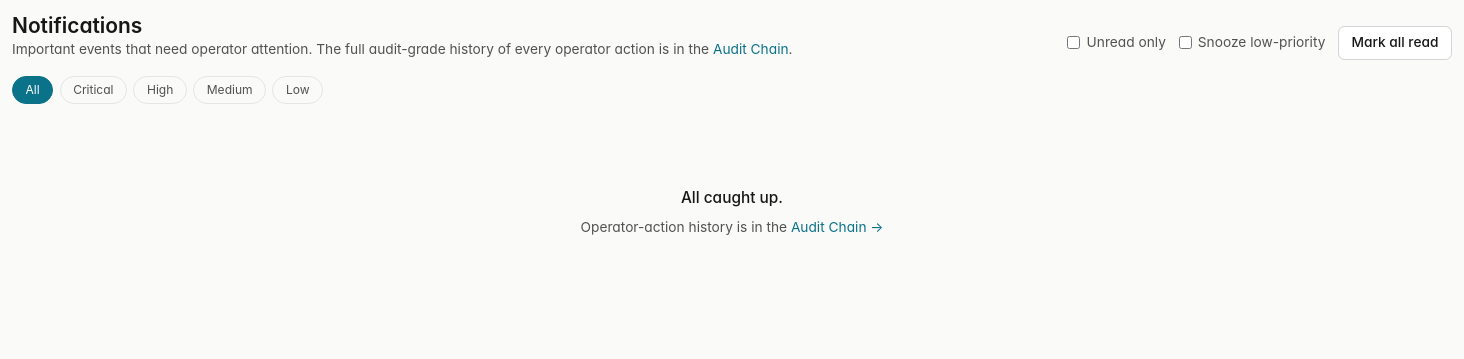
Test: <NotificationsPage> action-failure banner › falls back to a generic error code on a non-ApiError rejection
expect the heading "Notifications" is shown: met, box [12,13,142,38]
Step 1. Click the button "Mark all read" → [1395, 43], box [1338,26,1452,60]
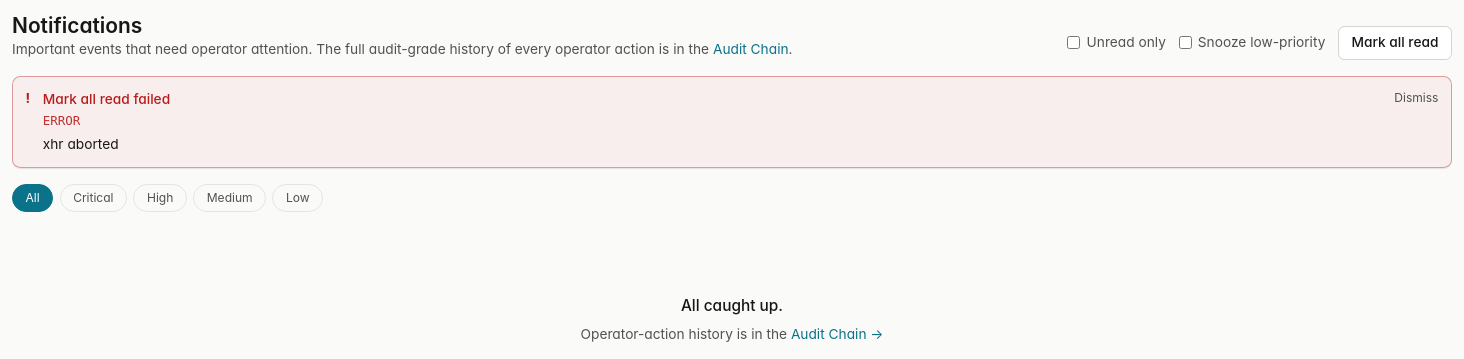
expect the message with test id "action-failure-banner" shows "ERROR": met, box [43,113,80,128]
expect the message with test id "action-failure-banner" shows "xhr aborted": met, box [43,136,119,152]
